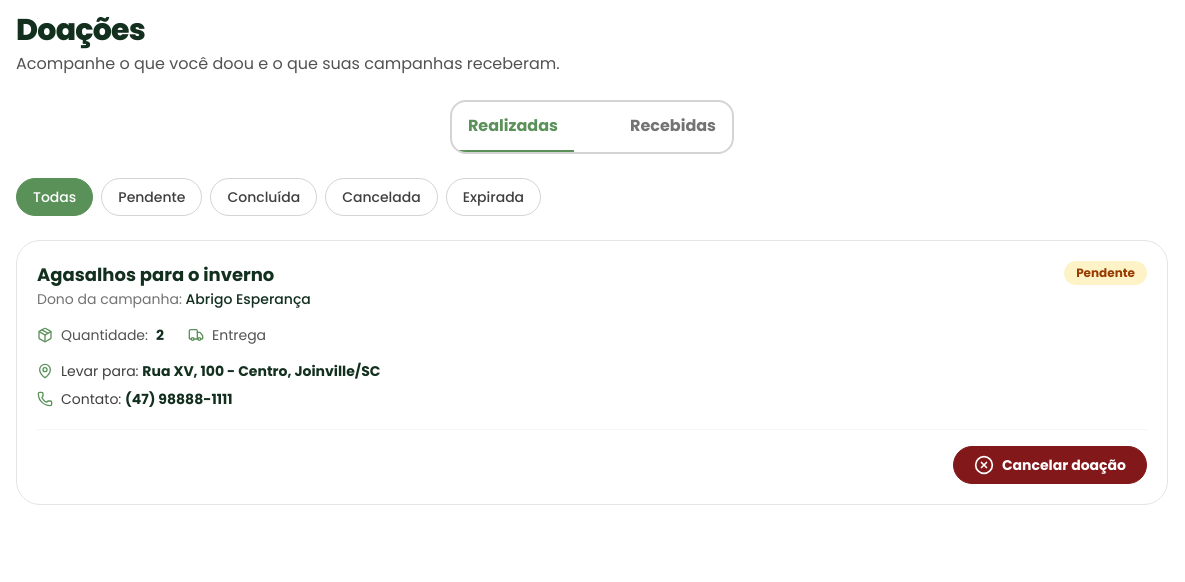
Test case: MyCampaignsAndDonationsPage › aba "Realizadas" (o que eu doei) › se a ação falhar, mostra a mensagem do backend
The width and height of the screenshot is (1185, 582).
Click the button "Cancelar doação".
click(1050, 465)  # box x1=953 y1=446 x2=1147 y2=484
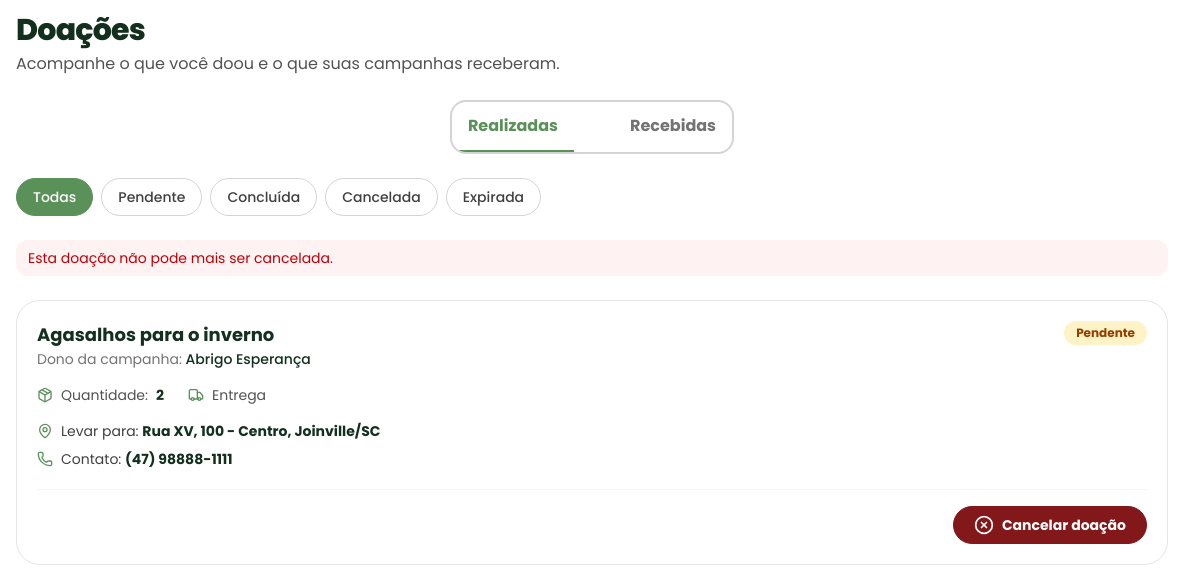
Expected: the text "Esta doação não pode mais ser cancelada." is shown, x1=16 y1=240 x2=1168 y2=276
